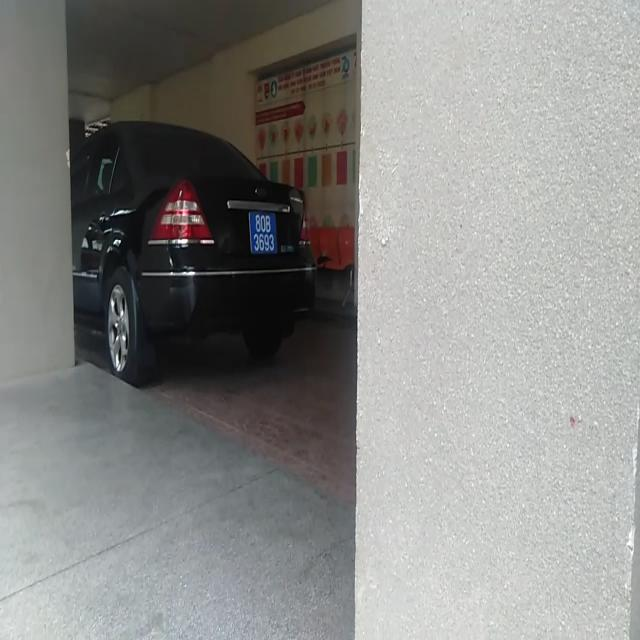bien_xanh: (248, 202, 277, 258)
